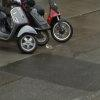Motorcycle: (6, 4, 83, 52)
